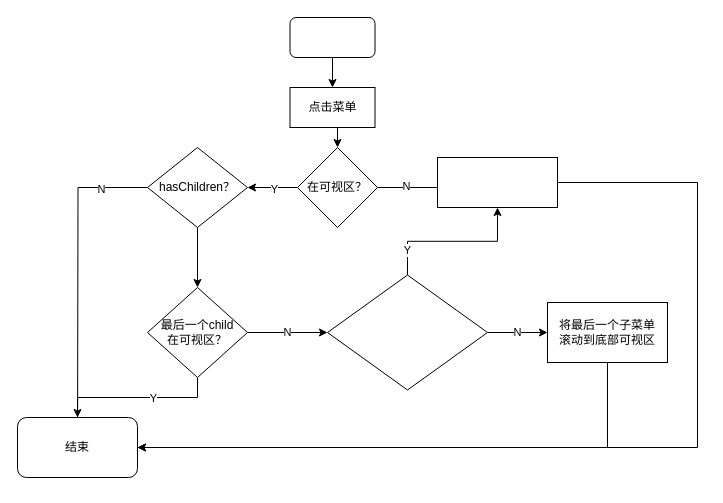
This 723x503 diagram has some shape labels left out. Each missing label, with the centre of its shape:
"将最后一个子菜单 滚动到底部可视区，是否 会将父菜单顶出可视区 （一屏展示不完）" belongs at point 407,332.
"将点击的菜单滚 动到顶部可视区" belongs at point 497,182.
"开始" belongs at point 332,37.
